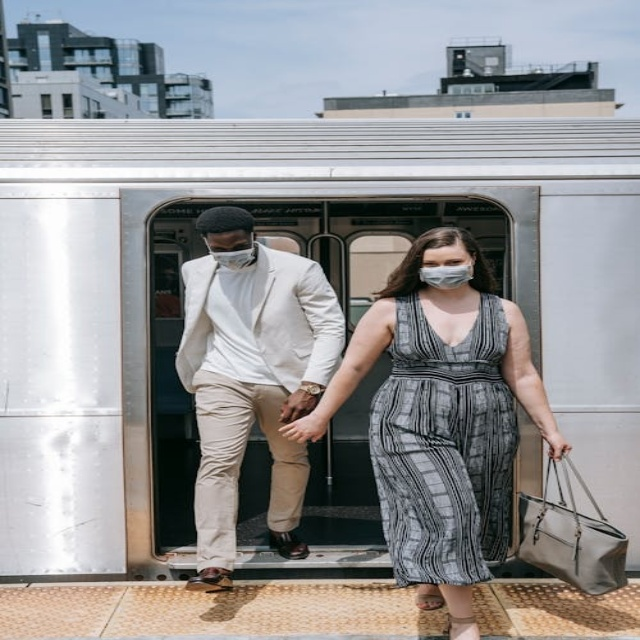Mascara: (418, 260, 473, 289), (208, 239, 257, 268)
Sin_gafas: (206, 238, 252, 252), (420, 257, 467, 270)
Sin_guantes: (529, 422, 580, 463), (275, 414, 335, 446), (274, 384, 325, 420)
